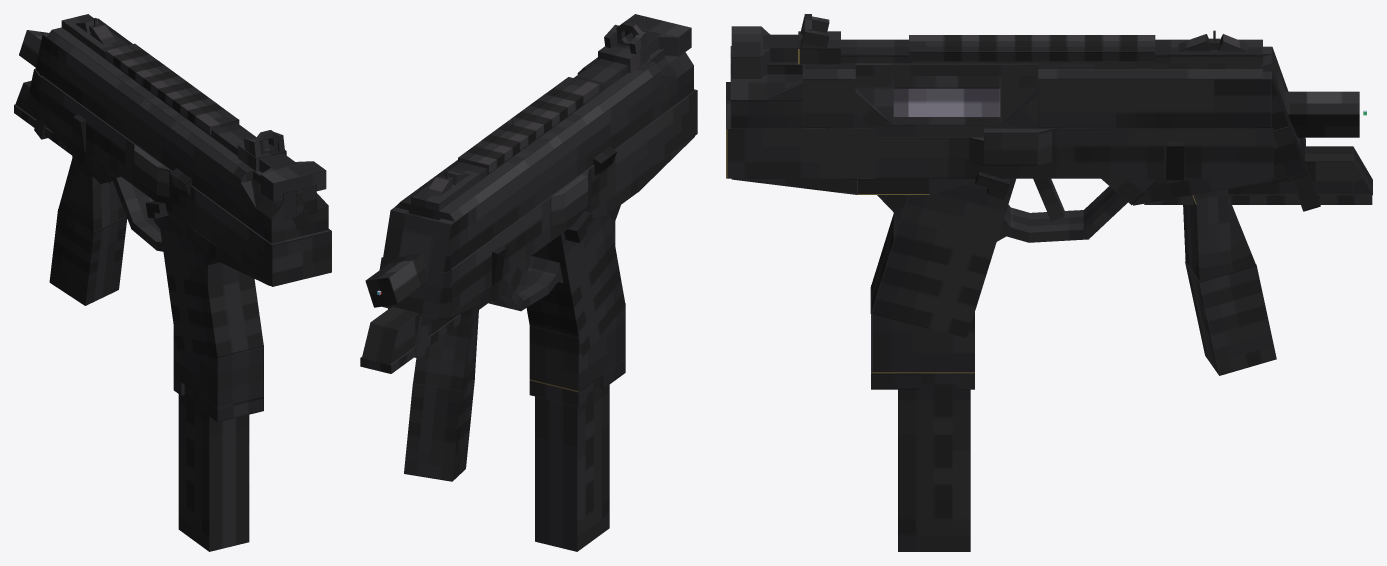
The picture shows the model from 3 angles, left to right: view 1: azimuth 30°, elevation 25°; view 2: azimuth 150°, elevation 25°; view 3: azimuth 270°, elevation 25°; orthographic projection. The views are drawn at different scales.
Parts seen in each view (by area): view 1: gun_80, magazine_1, tmpgrip_4, underrail_4; view 2: gun_80, magazine_1, tmpgrip_4, underrail_4; view 3: gun_80, magazine_1, tmpgrip_4, underrail_4, action_1.
Boxes of the visible parts, x1,y1,x2,y2 form: gun_80: [19, 14, 331, 422]; magazine_1: [178, 385, 249, 551]; tmpgrip_4: [34, 117, 127, 305]; underrail_4: [14, 80, 113, 183]; gun_80: [365, 14, 697, 406]; magazine_1: [535, 377, 609, 551]; tmpgrip_4: [388, 305, 479, 481]; underrail_4: [360, 301, 489, 373]; gun_80: [726, 14, 1359, 389]; magazine_1: [898, 373, 970, 551]; tmpgrip_4: [1183, 165, 1320, 375]; underrail_4: [1144, 146, 1372, 204]; action_1: [893, 87, 1000, 116].
Size of the model in its own units: 0.3438 by 1.99 by 2.23.
